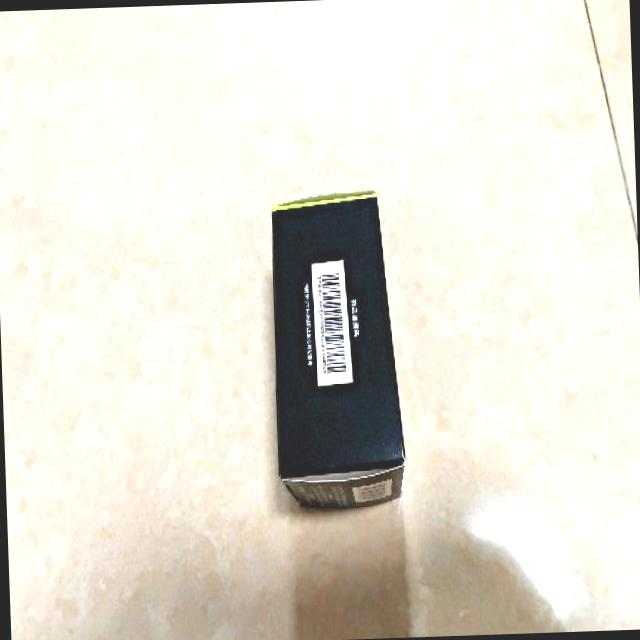box: (269, 188, 407, 514)
